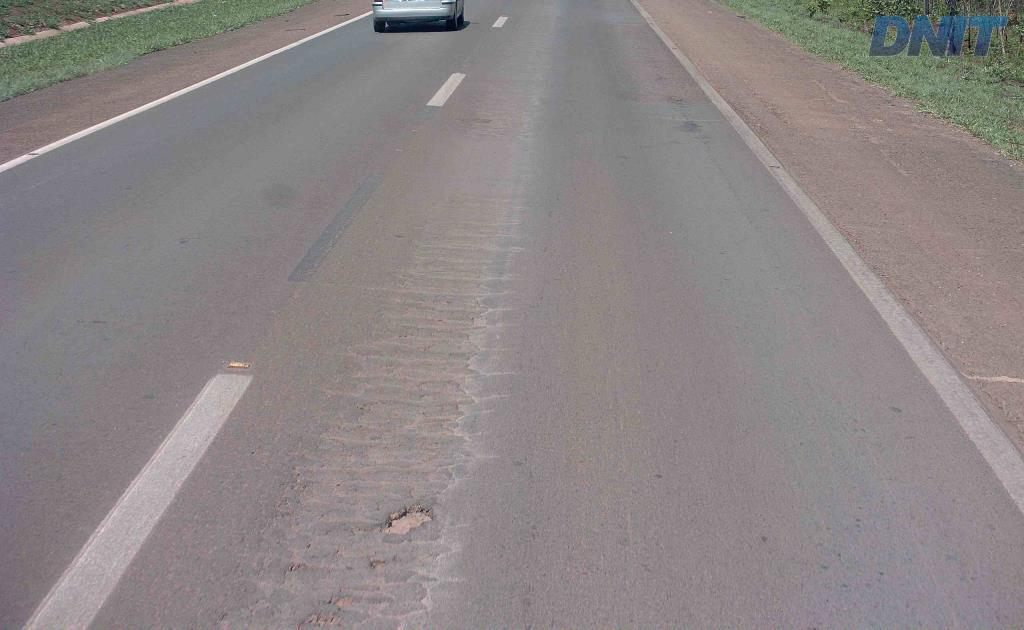pothole: (377, 501, 442, 542)
